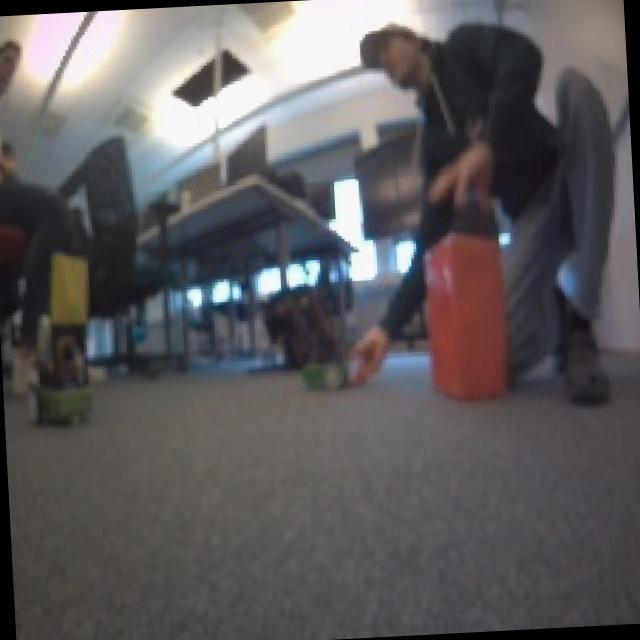robot: (26, 370, 98, 430), (296, 328, 358, 394)
target: (416, 222, 514, 403)
